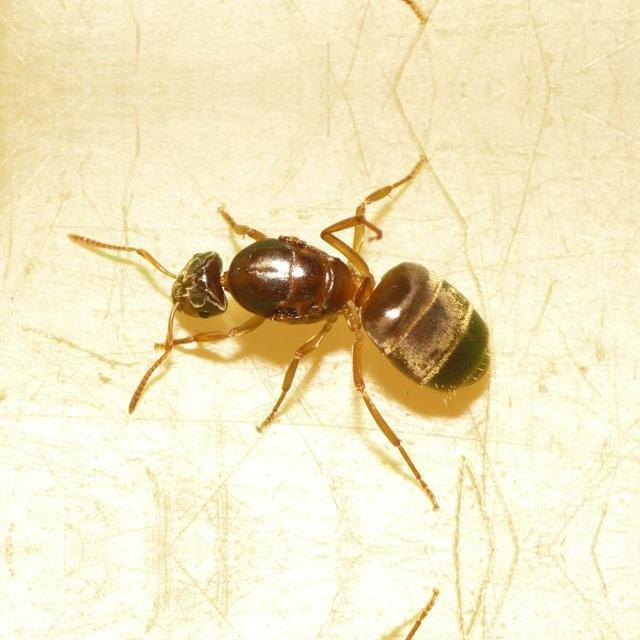Lasius: (152, 180, 524, 438)
